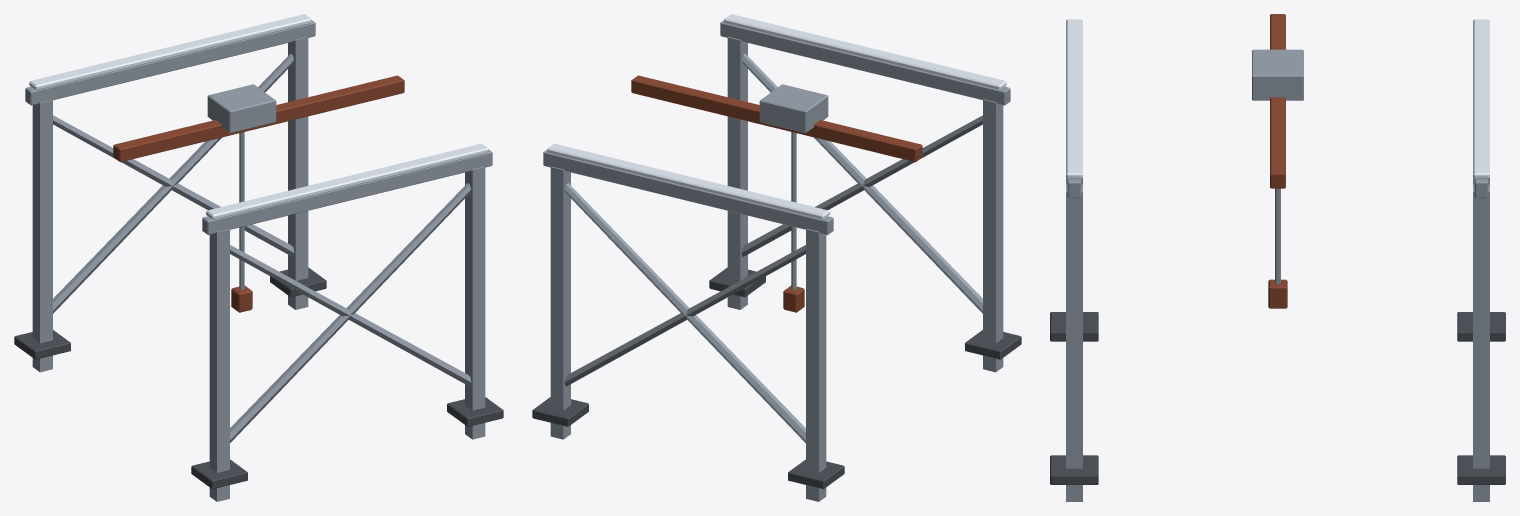
Rendered from DepotHoist_-2_-2.fbx.
The picture shows the model from 3 angles, left to right: view 1: azimuth 30°, elevation 25°; view 2: azimuth 150°, elevation 25°; view 3: azimuth 270°, elevation 25°; orthographic projection. The views are drawn at different scales.
Parts seen in each view (by area): view 1: DepotHoist_-2_-2; view 2: DepotHoist_-2_-2; view 3: DepotHoist_-2_-2.
Boxes of the visible parts, bbox=[...] form: DepotHoist_-2_-2: bbox=[14, 14, 503, 501]; DepotHoist_-2_-2: bbox=[532, 14, 1021, 501]; DepotHoist_-2_-2: bbox=[1050, 14, 1505, 501].
Size of the model in its own units: 686 by 692 by 806.
